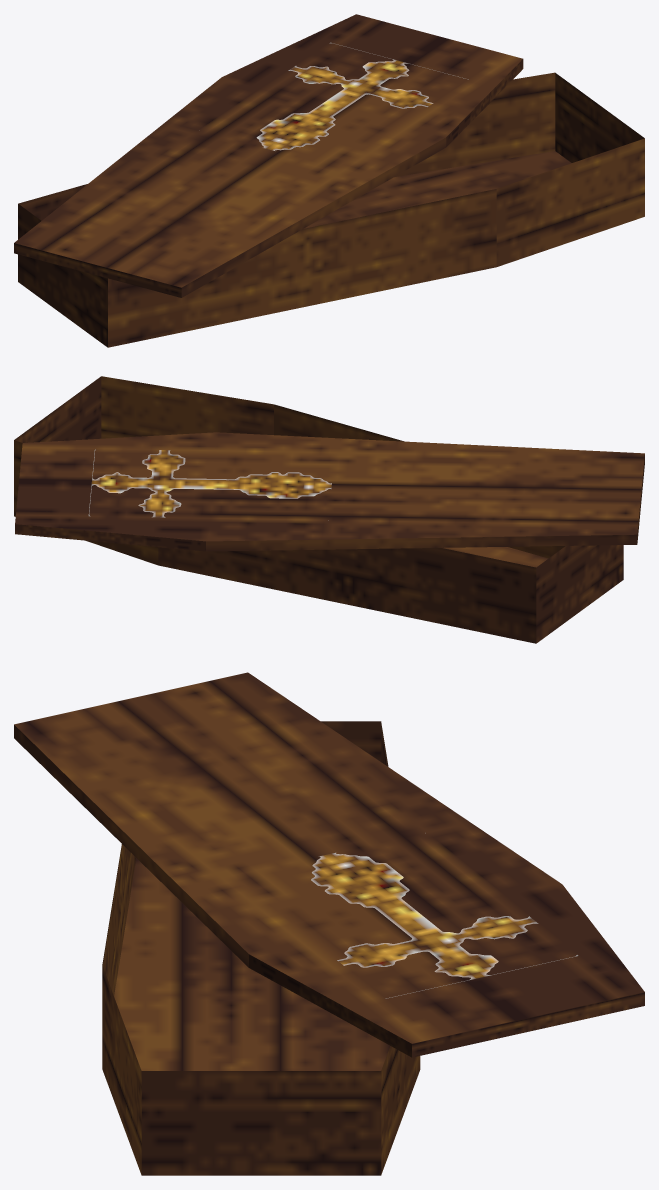
File: SM_Dungeon_Coffin_Open.fbx
3 renders of one model, top to bottom at view 1: azimuth 30°, elevation 25°; view 2: azimuth 150°, elevation 25°; view 3: azimuth 270°, elevation 25°, orthographic. The views are drawn at different scales.
Parts seen in each view (by area): view 1: SM_Dungeon_Coffin_Open; view 2: SM_Dungeon_Coffin_Open; view 3: SM_Dungeon_Coffin_Open.
Part boxes in pixels (<box>): SM_Dungeon_Coffin_Open: <box>14,14,644,347</box>; SM_Dungeon_Coffin_Open: <box>14,376,644,643</box>; SM_Dungeon_Coffin_Open: <box>14,672,644,1175</box>.
Bounding box in the file's own units: 276 × 40.69 × 192.
